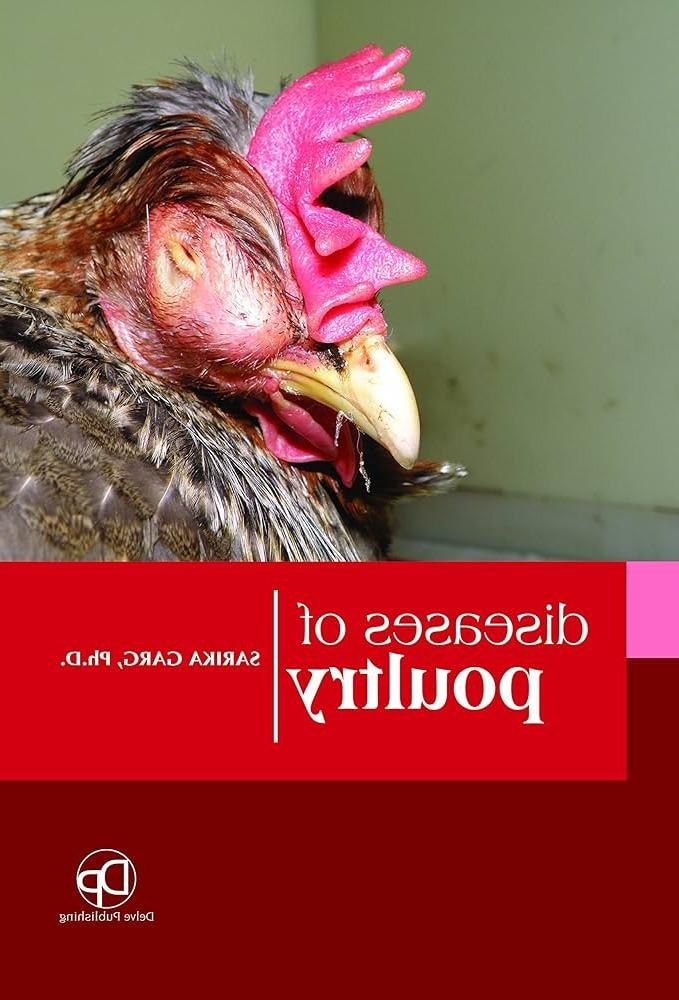AbNormal: (0, 46, 418, 558)
